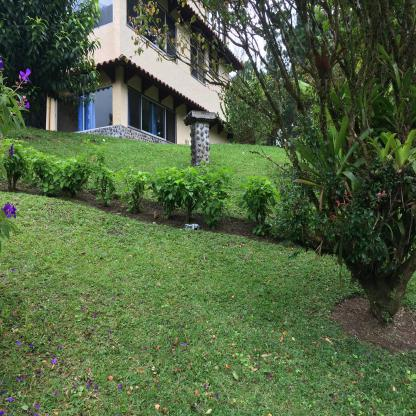plastik: (186, 225, 203, 232)
